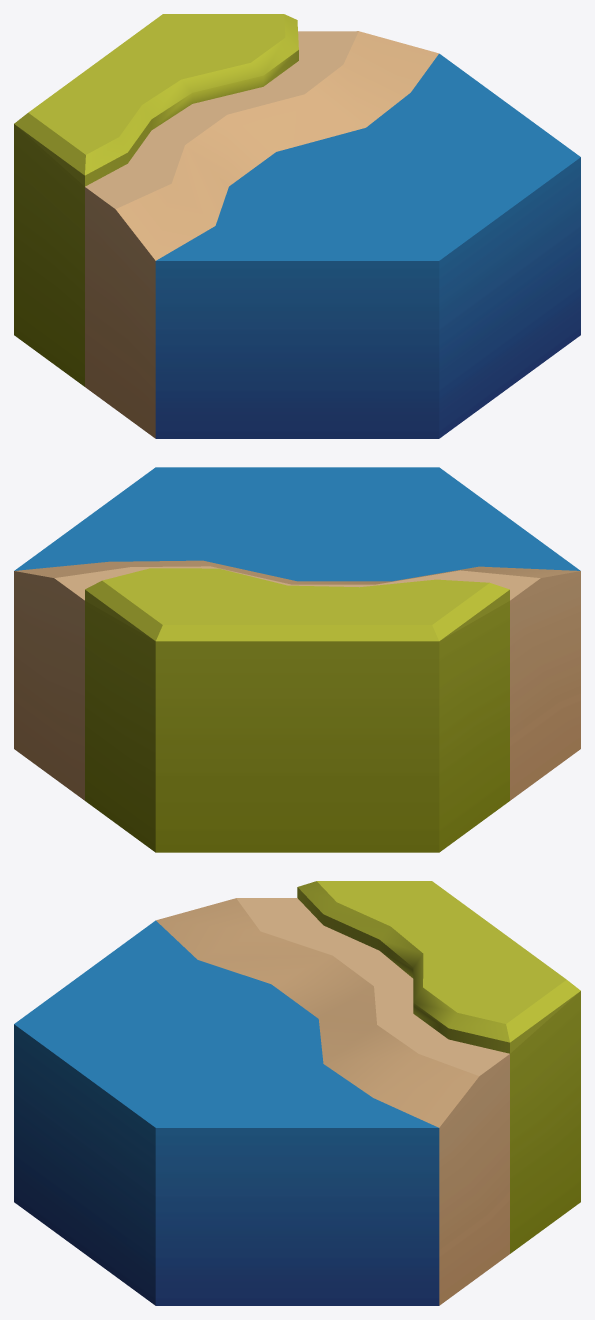
File: kaykit-medieval-hexagon-pack-hex-coast-c.glb
3 renders of one model, top to bottom at view 1: azimuth 30°, elevation 25°; view 2: azimuth 150°, elevation 25°; view 3: azimuth 270°, elevation 25°, orthographic.
Visible parts, largest first — view 1: hex_coast_C; view 2: hex_coast_C; view 3: hex_coast_C.
Boxes of the visible parts, x1,y1,x2,y2 form: hex_coast_C: (14, 14, 580, 438); hex_coast_C: (14, 467, 580, 852); hex_coast_C: (14, 881, 580, 1305).
Bounding box in the file's own units: 2 × 1 × 2.31.
1 material, 1 textured.
